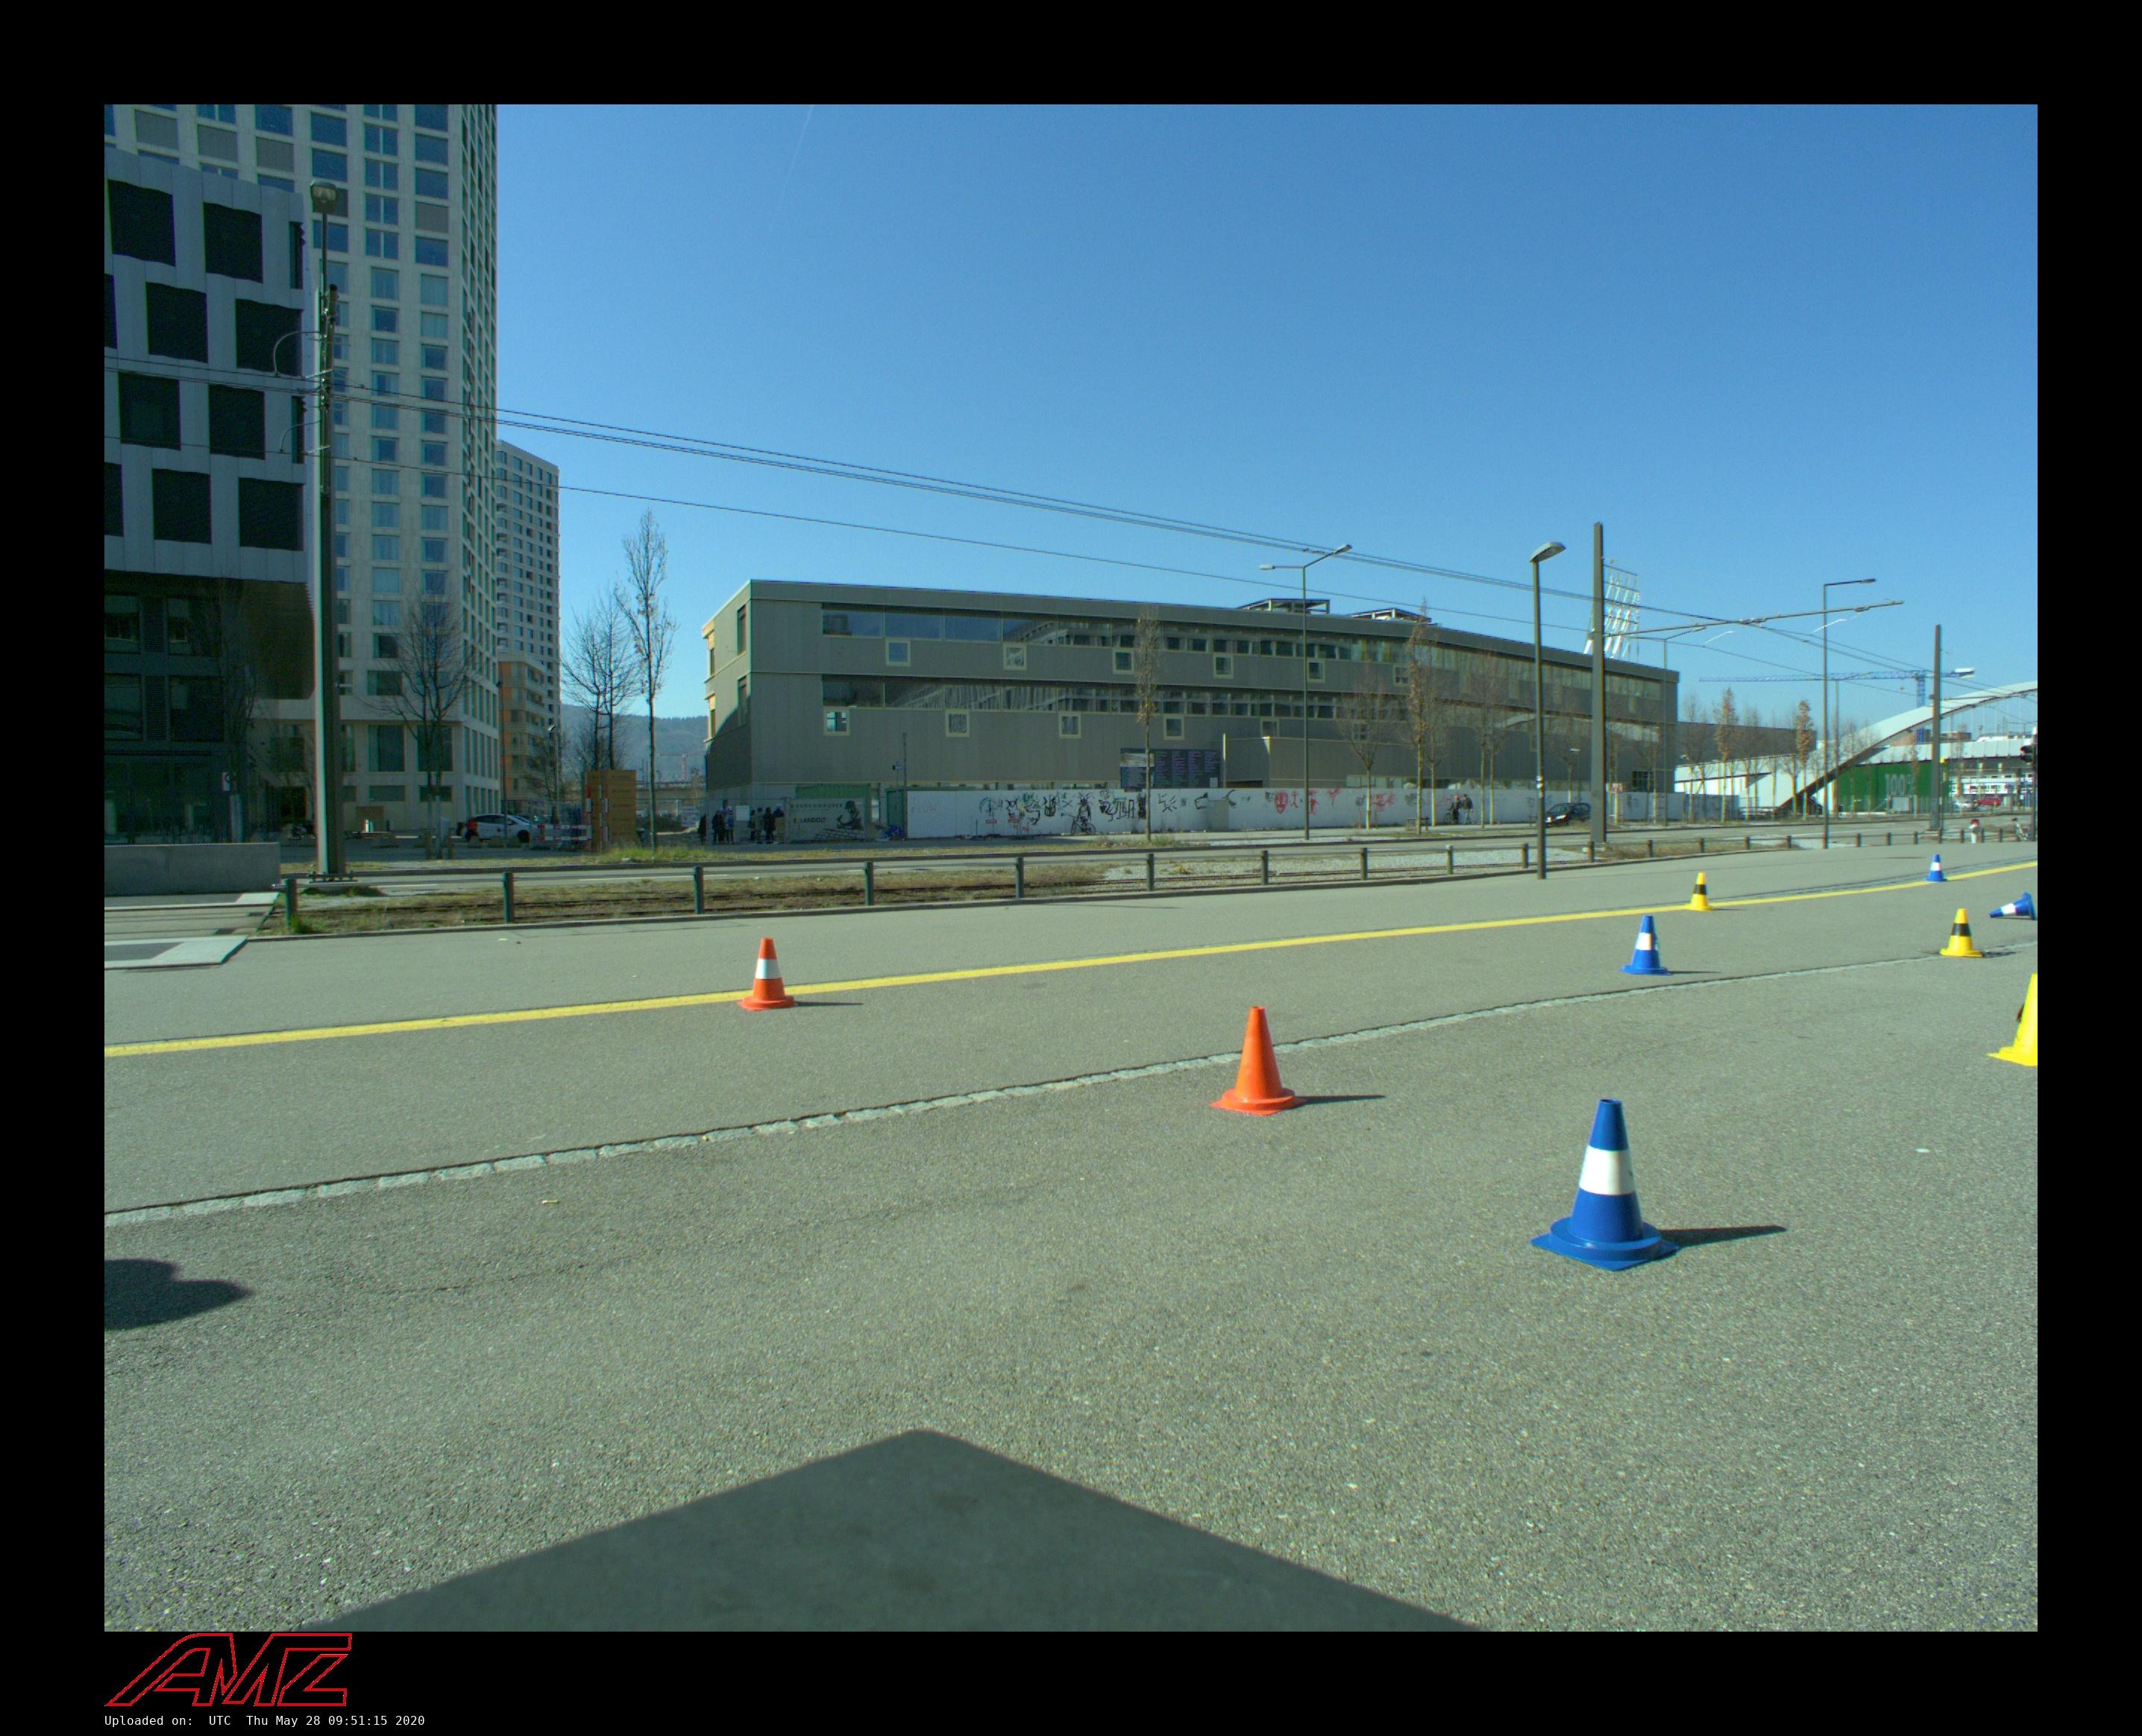blue_cone: (1530, 1099, 1679, 1271), (1619, 915, 1671, 976), (1989, 892, 2037, 921), (1926, 854, 1947, 882)
orange_cone: (1210, 1005, 1307, 1116), (738, 937, 798, 1010)
yellow_cone: (1987, 974, 2037, 1067), (1940, 909, 1982, 957), (1685, 872, 1714, 911)
